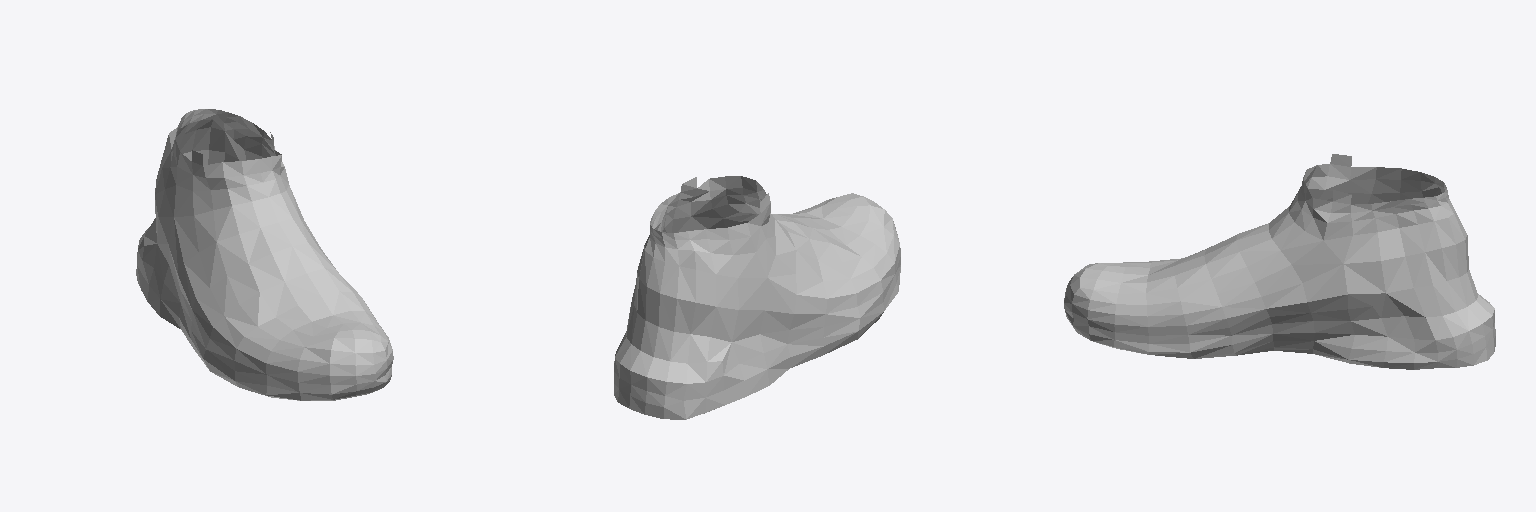
File: drawLeftFoot.obj
3 renders of one model, left to right at view 1: azimuth 30°, elevation 25°; view 2: azimuth 150°, elevation 25°; view 3: azimuth 270°, elevation 25°, orthographic.
Visible parts, largest first — view 1: rp_manuel_animated_001_dancing_geo rp_manuel_animated_001_dancin; view 2: rp_manuel_animated_001_dancing_geo rp_manuel_animated_001_dancin; view 3: rp_manuel_animated_001_dancing_geo rp_manuel_animated_001_dancin.
Part boxes in pixels (x1,y1,x2,y2): rp_manuel_animated_001_dancing_geo rp_manuel_animated_001_dancin: (136,109,393,400); rp_manuel_animated_001_dancing_geo rp_manuel_animated_001_dancin: (614,176,900,419); rp_manuel_animated_001_dancing_geo rp_manuel_animated_001_dancin: (1064,154,1495,369).
Bounding box in the file's own units: 11.56 × 13.71 × 30.17.